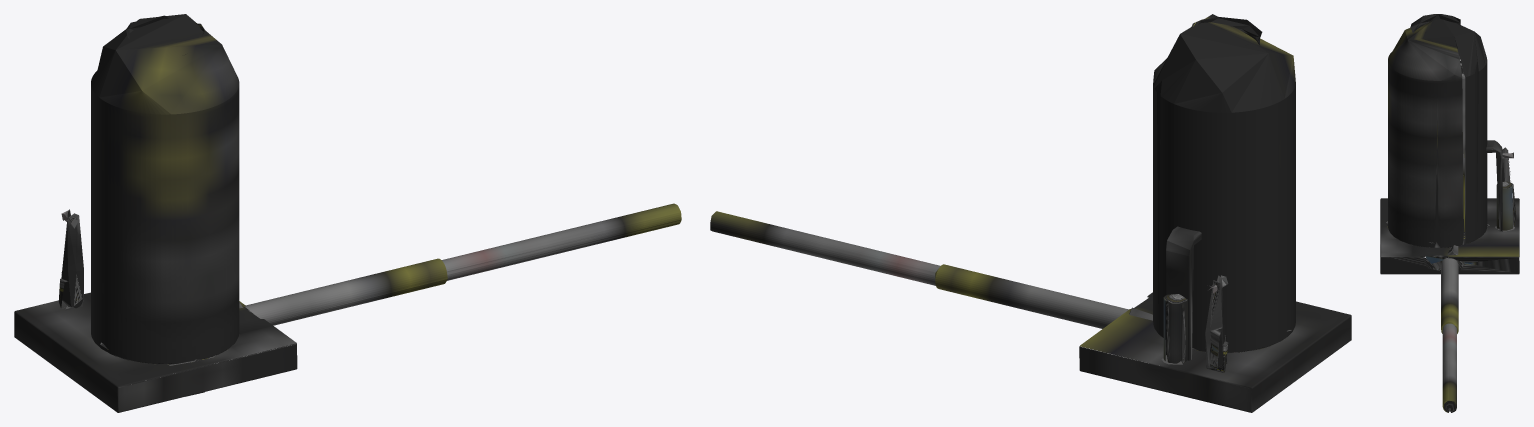
The model's file is vehicleSupport_jack_bottleHydraulic_a01.glb.
3 views of the same model, side by side, from view 1: azimuth 30°, elevation 25°; view 2: azimuth 150°, elevation 25°; view 3: azimuth 270°, elevation 25° (orthographic). The views are drawn at different scales.
Parts seen in each view (by area): view 1: geometry_0; view 2: geometry_0; view 3: geometry_0.
Part boxes in pixels (bbox=[...]): geometry_0: bbox=[14, 14, 681, 412]; geometry_0: bbox=[710, 14, 1351, 412]; geometry_0: bbox=[1380, 14, 1519, 412].
Bounding box in the file's own units: 0.42 × 0.2317 × 0.1239.
Materials: 1 (1 with a texture image).
